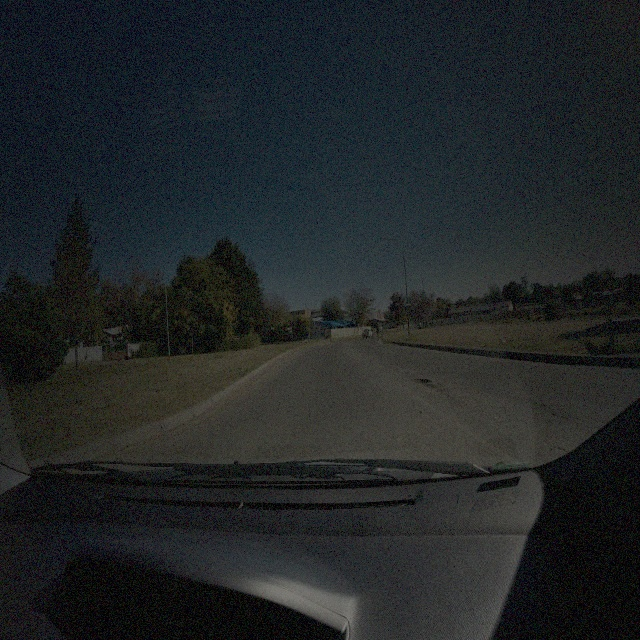pothole: (412, 376, 432, 385)
